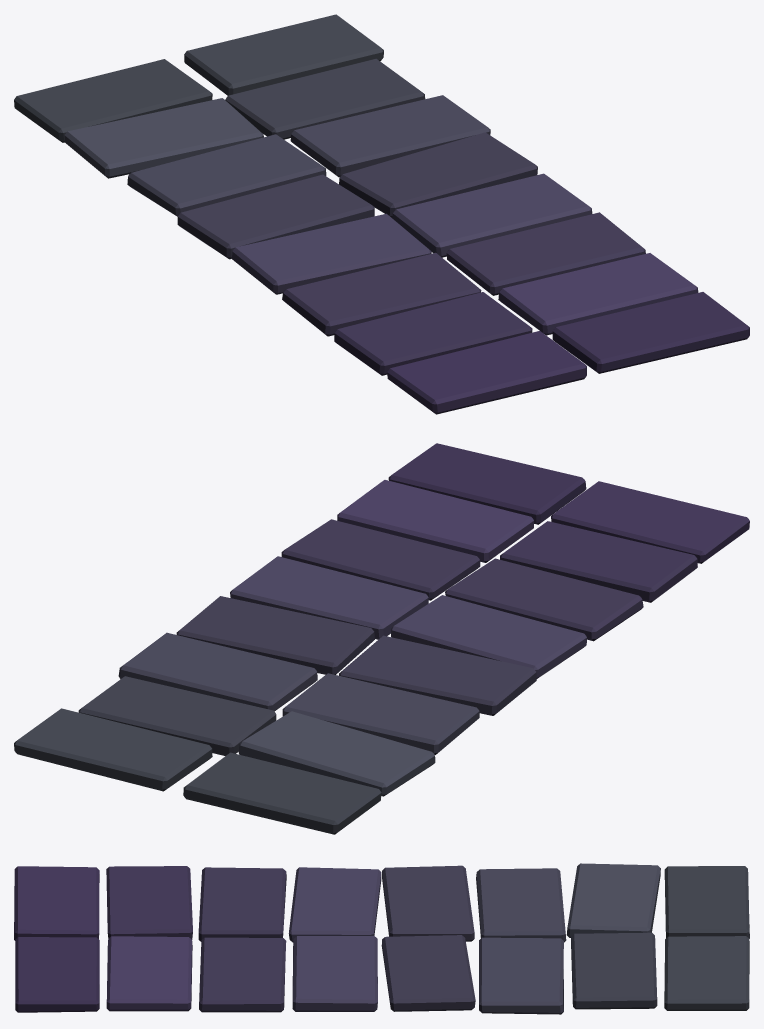
Rendered from caminho_ramal.fbx.
3 views of the same model, one above another, from view 1: azimuth 30°, elevation 25°; view 2: azimuth 150°, elevation 25°; view 3: azimuth 270°, elevation 25° (orthographic). The views are drawn at different scales.
Visible parts, largest first — view 1: caminho_ramal; view 2: caminho_ramal; view 3: caminho_ramal.
Boxes of the visible parts, box(x1,y1,x2,y2) form: caminho_ramal: box(14, 14, 749, 414); caminho_ramal: box(14, 443, 749, 834); caminho_ramal: box(14, 863, 749, 1014).
Bounding box in the file's own units: 9.85 × 0.5204 × 21.8.
